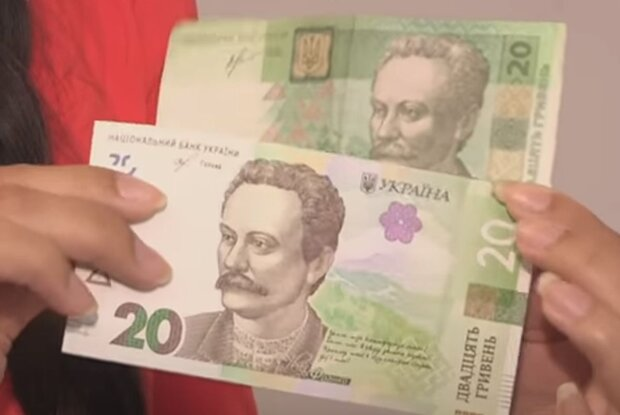bn_20: (62, 144, 540, 400), (146, 1, 563, 175)
